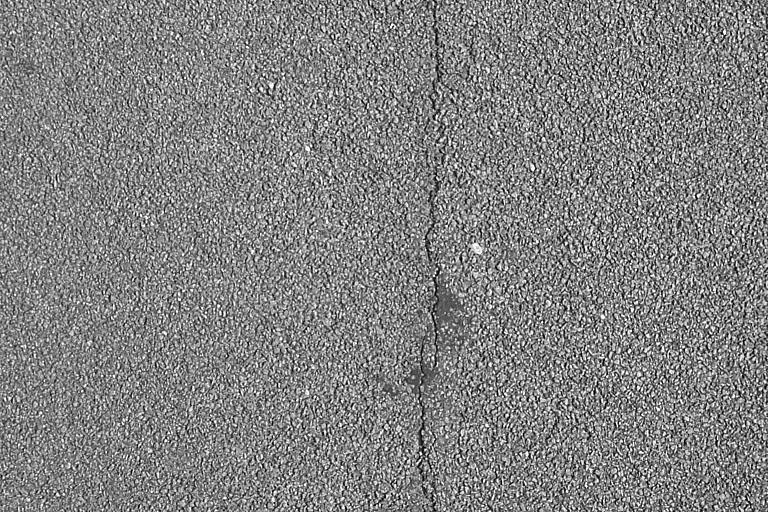crack: (414, 0, 448, 512)
